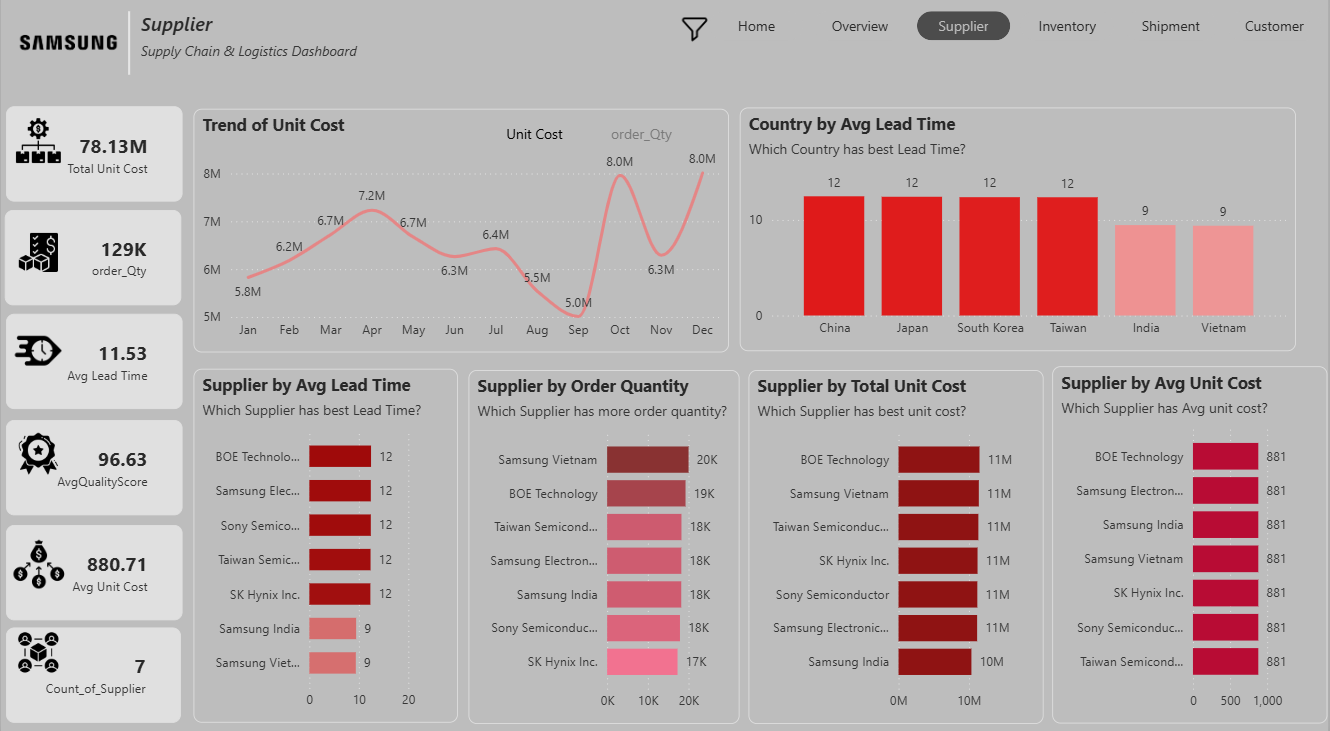

This screenshot's page, from the dashboard's own definition file:
{"tool":"powerbi","page":{"name":"Supplier","canvas":[1280,720],"ordinal":2},"visuals":[{"type":"shape","title":"Supplier","box":[135,18.8,210,62.5],"z":0},{"type":"shape","box":[53.8,20,138.8,61.2],"z":1000},{"type":"image","box":[11.2,8.8,103.8,83.8],"z":2000},{"type":"clusteredBarChart","title":"Supplier by Avg Lead Time","fields":{"Y":["Measures_Table.Avg_Lead_Time"],"Category":["dim_supplier.supplier_name"]},"box":[186.1,365,255.4,341.9],"z":3000},{"type":"cardVisual","fields":{"Data":["Measures_Table.order_Qty"]},"box":[3.6,212.3,170.1,91.7],"z":4000},{"type":"cardVisual","fields":{"Data":["Measures_Table.Avg_Lead_Time"]},"box":[4.8,312.5,170,92],"z":5000},{"type":"cardVisual","fields":{"Data":["fact_procurement.Avg_quality_score"]},"box":[4.8,415,170,92],"z":6000},{"type":"cardVisual","fields":{"Data":["fact_procurement.Avg Unit Cost"]},"box":[4.8,516.4,170,92],"z":7000},{"type":"cardVisual","fields":{"Data":["fact_procurement.Total Unit Cost"]},"box":[4.8,112.2,170,92],"z":8000},{"type":"cardVisual","fields":{"Data":["CountNonNull(dim_supplier.supplier_id)"]},"box":[4.8,615.3,168.9,91.7],"z":9000},{"type":"clusteredBarChart","title":"Supplier by Order Quantity","fields":{"Category":["dim_supplier.supplier_name"],"Y":["Measures_Table.order_Qty"]},"box":[451.2,366.8,261.8,341.4],"z":10000},{"type":"clusteredBarChart","title":"Supplier by Total Unit Cost","fields":{"Category":["dim_supplier.supplier_name"],"Y":["fact_procurement.Total Unit Cost"]},"box":[721.5,366.8,284.7,341.4],"z":11000},{"type":"group","id":"g1","title":"Group 1","box":[185.9,112.5,516.5,237.3],"z":12000},{"type":"columnChart","title":"Country by Avg Lead Time","fields":{"Category":["dim_supplier.country"],"Y":["measures_tbl.Avg_Lead_Time"]},"box":[712.7,114,536.7,235.2],"z":13000},{"type":"lineChart","fields":{"Y":["fact_procurement.Total Unit Cost"],"Category":["dim_date.Month_short"]},"box":[185.9,114.6,516.5,235.2],"z":13000,"group":"g1"},{"type":"advancedSlicerVisual","fields":{"Values":["Cost_Qty_Supplier.Cost_Qty_Supplier"]},"box":[477.6,112.5,204.9,51.9],"z":14000,"group":"g1"},{"type":"clusteredBarChart","title":"Supplier by Avg Unit Cost","fields":{"Category":["dim_supplier.supplier_name"],"Y":["fact_procurement.Avg Unit Cost"]},"box":[1014.6,363.1,265.4,345],"z":14000},{"type":"pageNavigator","box":[684,20.5,596,29],"z":15000},{"type":"image","box":[655.1,20.5,29,33.8],"z":16000},{"type":"image","box":[0,123.1,72.4,44.6],"z":17000},{"type":"image","box":[0,231.6,72.4,43.4],"z":18000},{"type":"image","box":[0,320.9,72.4,54.3],"z":19000},{"type":"image","box":[0,425.9,72.4,43.4],"z":20000},{"type":"image","box":[0,527.2,72.4,51.9],"z":21000},{"type":"image","box":[0,617.7,72.4,43.4],"z":22000}]}

Visuals, with their boxes in screenshot pixels (x1, y1, x2, y2), scaled from the page's 1280x720 canvas onto the 1330x731 screenshot:
"Supplier" shape: (left=140, top=19, right=358, bottom=83)
shape: (left=56, top=20, right=200, bottom=82)
image: (left=12, top=9, right=119, bottom=94)
"Supplier by Avg Lead Time" clusteredBarChart: (left=193, top=371, right=459, bottom=718)
cardVisual - Measures_Table.order_Qty: (left=4, top=216, right=180, bottom=309)
cardVisual - Measures_Table.Avg_Lead_Time: (left=5, top=317, right=182, bottom=411)
cardVisual - fact_procurement.Avg_quality_score: (left=5, top=421, right=182, bottom=515)
cardVisual - fact_procurement.Avg Unit Cost: (left=5, top=524, right=182, bottom=618)
cardVisual - fact_procurement.Total Unit Cost: (left=5, top=114, right=182, bottom=207)
cardVisual - CountNonNull(dim_supplier.supplier_id): (left=5, top=625, right=180, bottom=718)
"Supplier by Order Quantity" clusteredBarChart: (left=469, top=372, right=741, bottom=719)
"Supplier by Total Unit Cost" clusteredBarChart: (left=750, top=372, right=1046, bottom=719)
"Group 1" group: (left=193, top=114, right=730, bottom=355)
"Country by Avg Lead Time" columnChart: (left=741, top=116, right=1298, bottom=355)
lineChart - fact_procurement.Total Unit Cost x dim_date.Month_short: (left=193, top=116, right=730, bottom=355)
advancedSlicerVisual - Cost_Qty_Supplier.Cost_Qty_Supplier: (left=496, top=114, right=709, bottom=167)
"Supplier by Avg Unit Cost" clusteredBarChart: (left=1054, top=369, right=1329, bottom=719)
pageNavigator: (left=711, top=21, right=1329, bottom=50)
image: (left=681, top=21, right=711, bottom=55)
image: (left=0, top=125, right=75, bottom=170)
image: (left=0, top=235, right=75, bottom=279)
image: (left=0, top=326, right=75, bottom=381)
image: (left=0, top=432, right=75, bottom=476)
image: (left=0, top=535, right=75, bottom=588)
image: (left=0, top=627, right=75, bottom=671)
